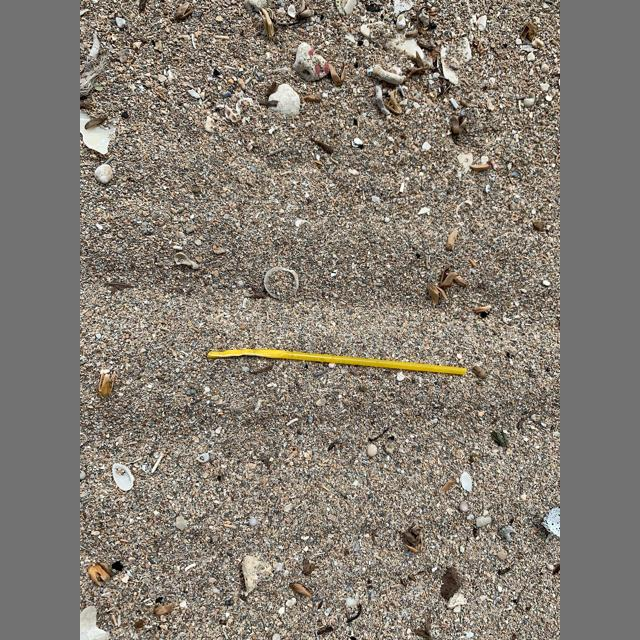litter: (207, 349, 467, 375)
